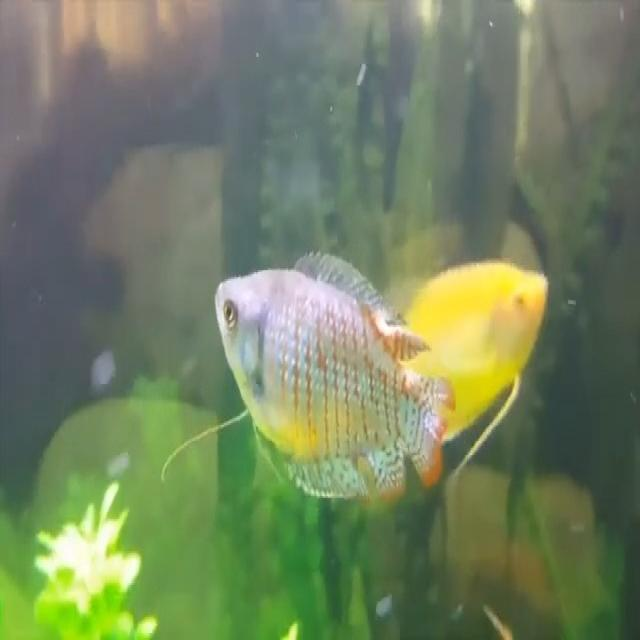fish: (213, 249, 448, 505), (412, 260, 554, 430)
